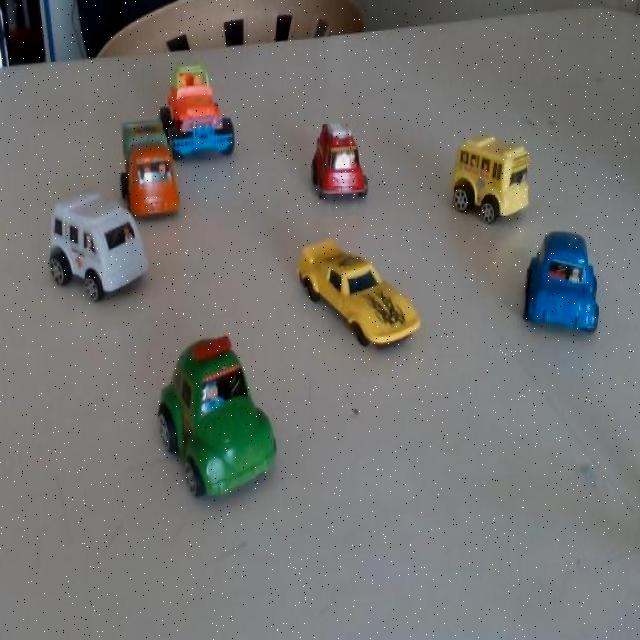car: (150, 339, 276, 489), (45, 182, 152, 313), (296, 239, 416, 350), (163, 53, 249, 163), (524, 230, 604, 337), (442, 137, 524, 230), (116, 109, 182, 224), (299, 113, 370, 214)
